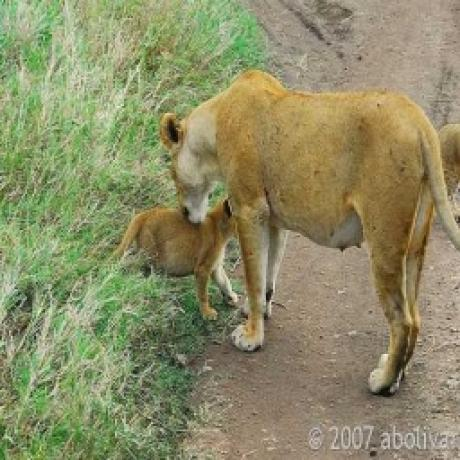Lion: (155, 66, 460, 399)
